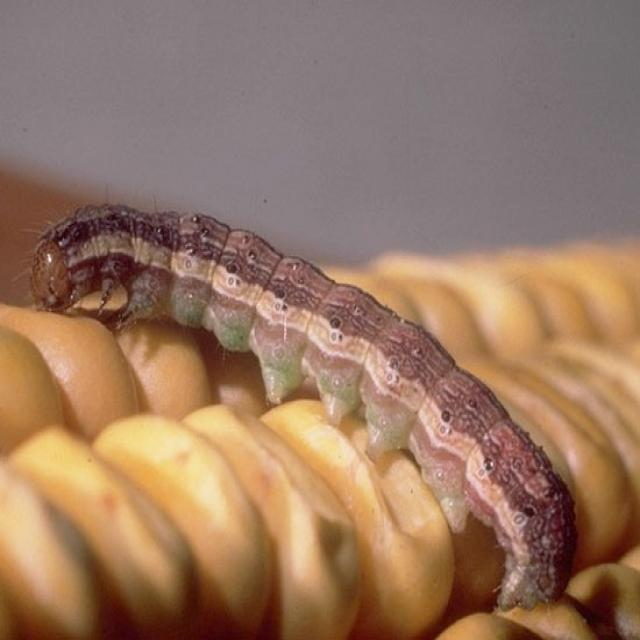Corn-earworm: (35, 194, 567, 611)
